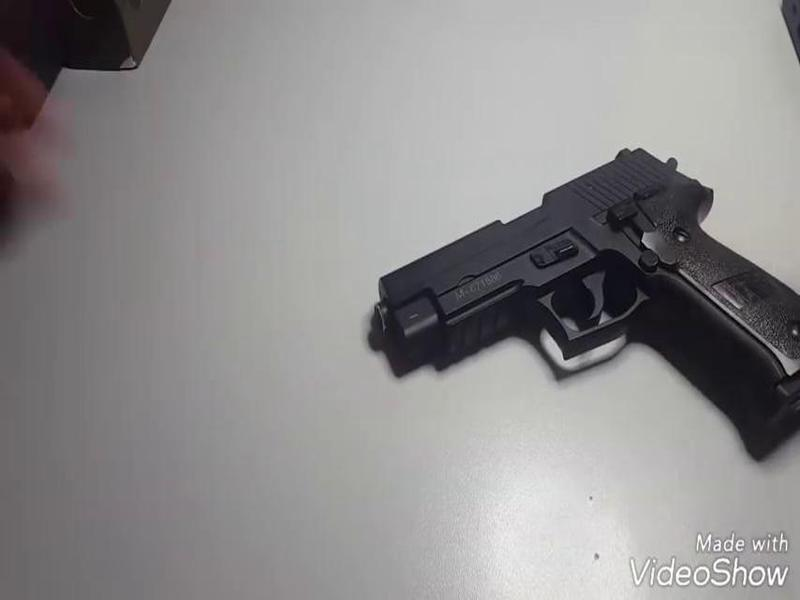Pistola: (335, 96, 795, 438)
